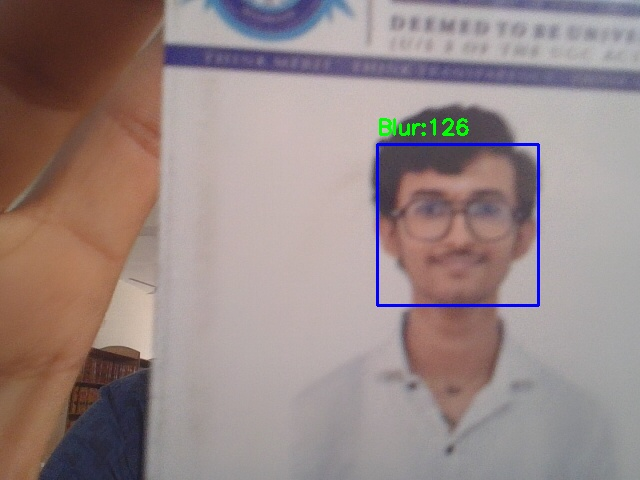fake: (377, 144, 538, 305)
